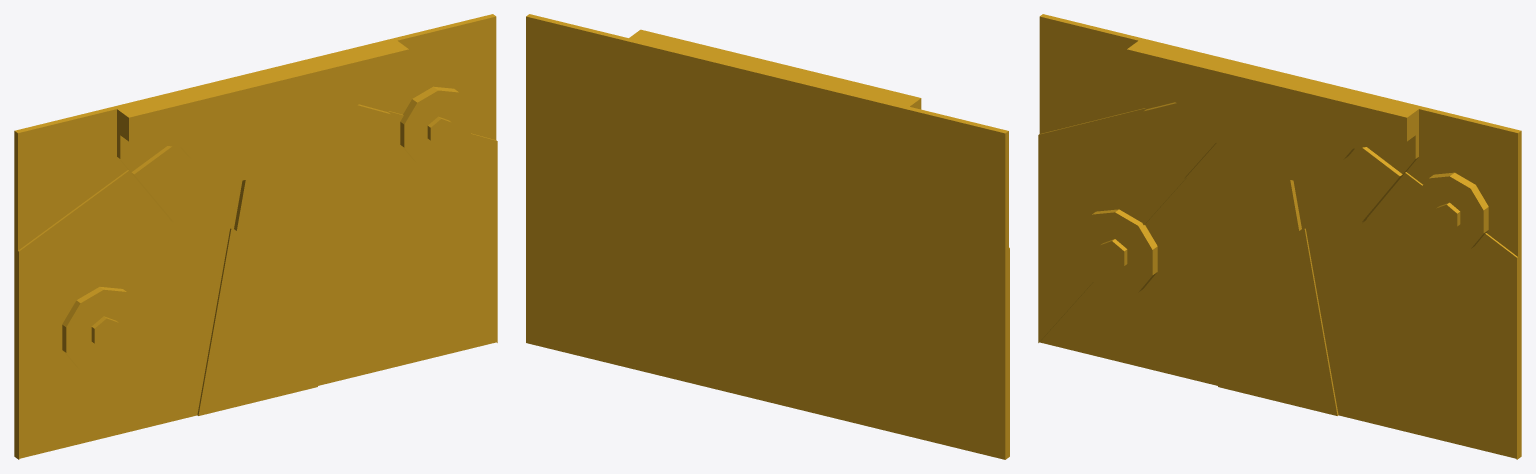
File: Prop_Jungle_Temple_Ornament_Sun_Plaque_Gold_01.FBX
The picture shows the model from 3 angles, left to right: view 1: azimuth 30°, elevation 25°; view 2: azimuth 150°, elevation 25°; view 3: azimuth 330°, elevation 25°; orthographic projection.
Visible parts, largest first — view 1: Prop_Jungle_Temple_Ornament_Sun_Plaque_Gold_01; view 2: Prop_Jungle_Temple_Ornament_Sun_Plaque_Gold_01; view 3: Prop_Jungle_Temple_Ornament_Sun_Plaque_Gold_01.
Part boxes in pixels (<box>): Prop_Jungle_Temple_Ornament_Sun_Plaque_Gold_01: <box>14,14,497,459</box>; Prop_Jungle_Temple_Ornament_Sun_Plaque_Gold_01: <box>526,14,1009,459</box>; Prop_Jungle_Temple_Ornament_Sun_Plaque_Gold_01: <box>1038,14,1521,459</box>.
Size of the model in its own units: 1415 by 921 by 78.1.
